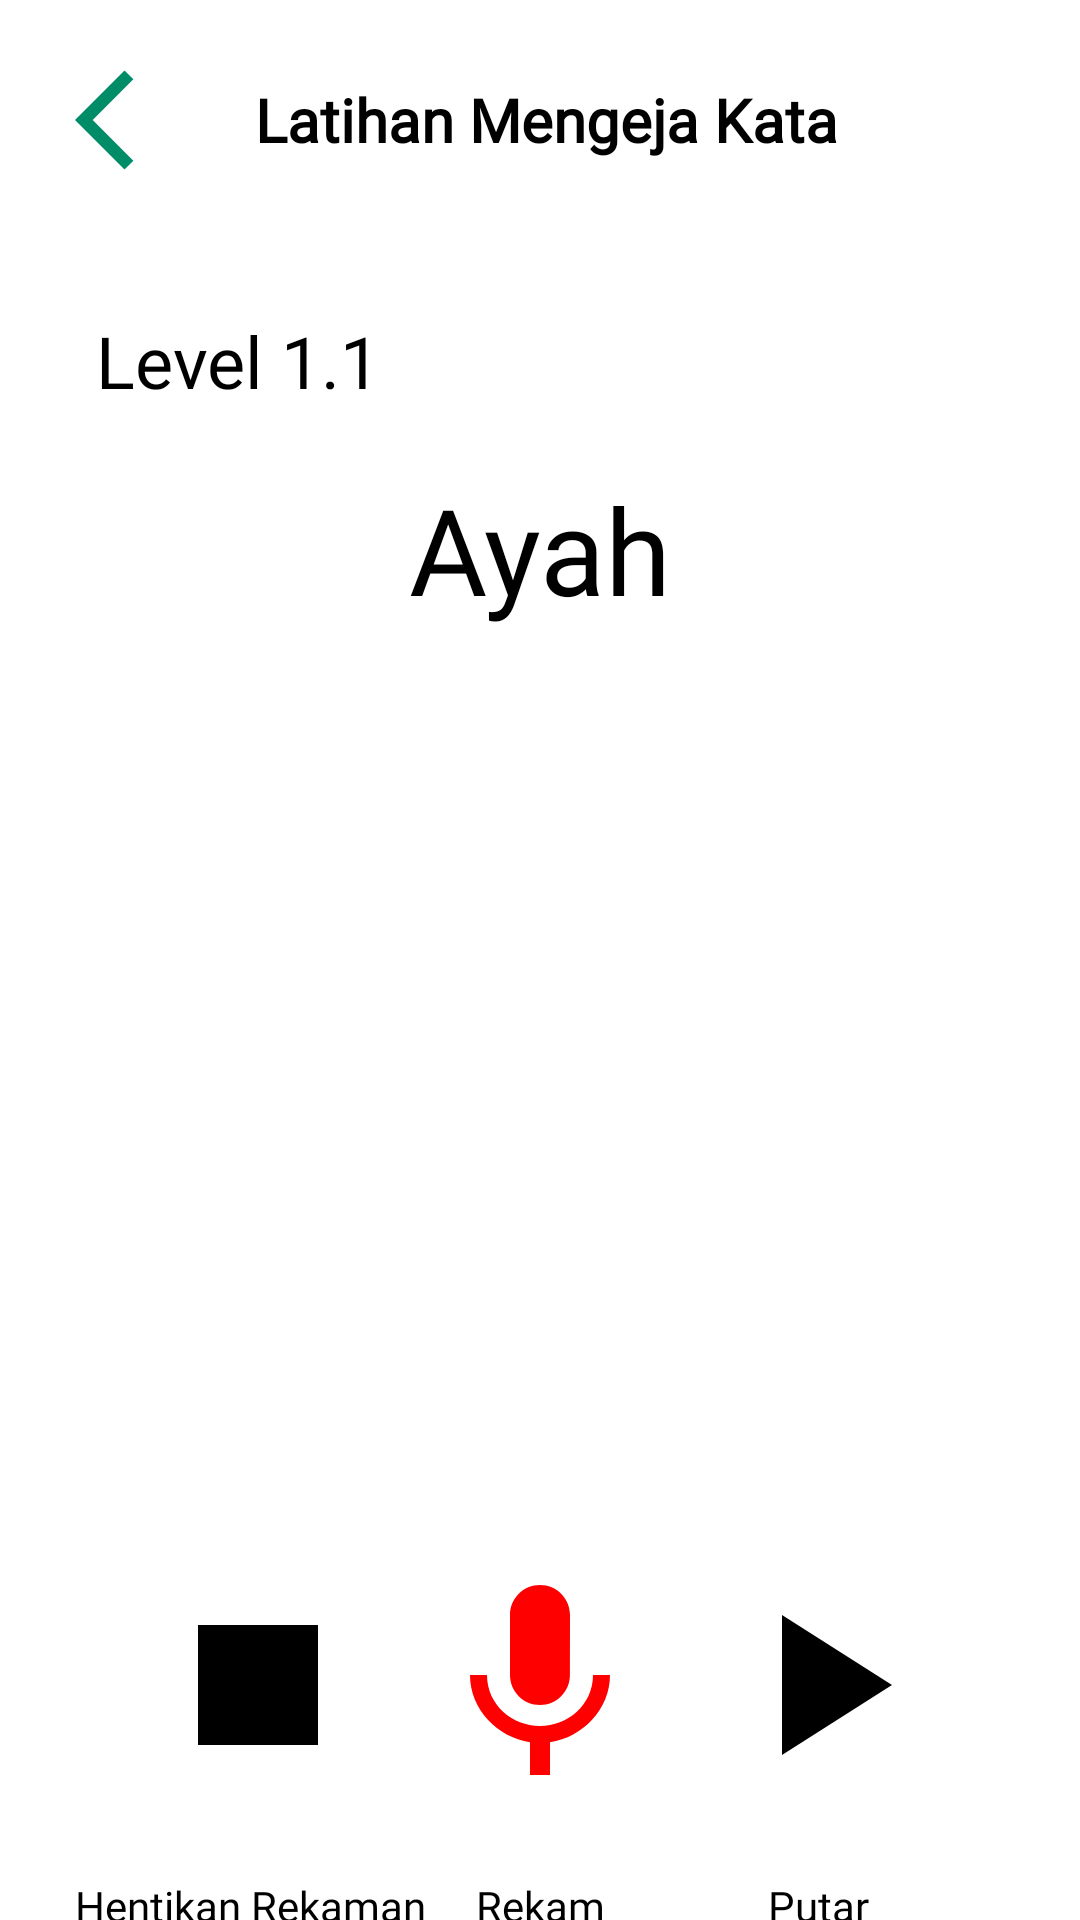

Locate icon controls on the screen. Image size 1080x1920, boxes as (x1, y1, x2, y2).
arrow back: (75, 70, 134, 170)
mic: (470, 1585, 610, 1775)
play arrow: (782, 1615, 892, 1755)
